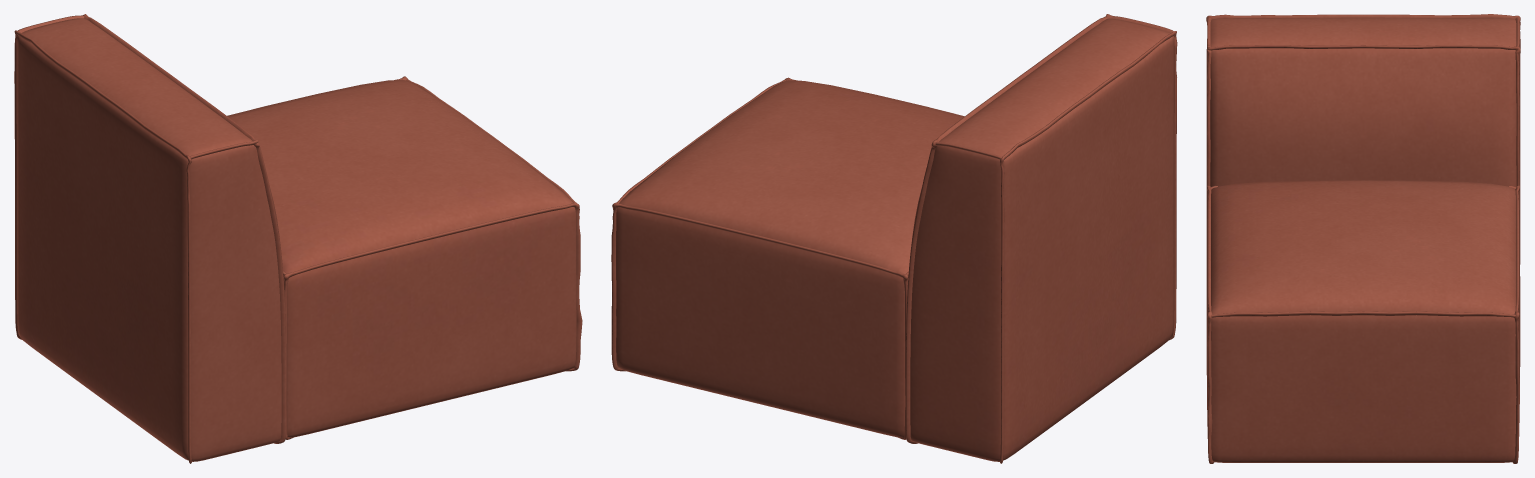
The model's file is singleSeatLeftSide.glb.
The picture shows the model from 3 angles, left to right: view 1: azimuth 30°, elevation 25°; view 2: azimuth 150°, elevation 25°; view 3: azimuth 270°, elevation 25°; orthographic projection. The views are drawn at different scales.
Parts seen in each view (by area): view 1: group1_MODEL03_CONF_01:_Object046.001_group1_MODEL03_CONF_0, group1_MODEL03_CONF_01:_Object043.001_group1_MODEL03_CONF_0, group1_MODEL03_CONF_01:_Group002.001_group1_MODEL03_CONF_01, group1_MODEL03_CONF_01:_Group003.001_group1_MODEL03_CONF_01; view 2: group1_MODEL03_CONF_01:_Object046.001_group1_MODEL03_CONF_0, group1_MODEL03_CONF_01:_Object043.001_group1_MODEL03_CONF_0, group1_MODEL03_CONF_01:_Group002.001_group1_MODEL03_CONF_01, group1_MODEL03_CONF_01:_Group003.001_group1_MODEL03_CONF_01; view 3: group1_MODEL03_CONF_01:_Object043.001_group1_MODEL03_CONF_0, group1_MODEL03_CONF_01:_Object046.001_group1_MODEL03_CONF_0, group1_MODEL03_CONF_01:_Group002.001_group1_MODEL03_CONF_01, group1_MODEL03_CONF_01:_Group003.001_group1_MODEL03_CONF_01.
Part boxes in pixels (x1=…): group1_MODEL03_CONF_01:_Object046.001_group1_MODEL03_CONF_0: x1=16, y1=18, x2=281, y2=461; group1_MODEL03_CONF_01:_Object043.001_group1_MODEL03_CONF_0: x1=227, y1=79, x2=576, y2=437; group1_MODEL03_CONF_01:_Group002.001_group1_MODEL03_CONF_01: x1=14, y1=14, x2=286, y2=463; group1_MODEL03_CONF_01:_Group003.001_group1_MODEL03_CONF_01: x1=283, y1=76, x2=582, y2=439; group1_MODEL03_CONF_01:_Object046.001_group1_MODEL03_CONF_0: x1=910, y1=18, x2=1174, y2=461; group1_MODEL03_CONF_01:_Object043.001_group1_MODEL03_CONF_0: x1=616, y1=80, x2=964, y2=437; group1_MODEL03_CONF_01:_Group002.001_group1_MODEL03_CONF_01: x1=905, y1=14, x2=1177, y2=463; group1_MODEL03_CONF_01:_Group003.001_group1_MODEL03_CONF_01: x1=611, y1=77, x2=908, y2=439; group1_MODEL03_CONF_01:_Object043.001_group1_MODEL03_CONF_0: x1=1206, y1=180, x2=1520, y2=462; group1_MODEL03_CONF_01:_Object046.001_group1_MODEL03_CONF_0: x1=1206, y1=17, x2=1520, y2=267; group1_MODEL03_CONF_01:_Group002.001_group1_MODEL03_CONF_01: x1=1206, y1=14, x2=1520, y2=222; group1_MODEL03_CONF_01:_Group003.001_group1_MODEL03_CONF_01: x1=1207, y1=185, x2=1519, y2=463.
Size of the model in its own units: 0.9317 by 0.711 by 0.7112.
Materials: 1 (1 with a texture image).
